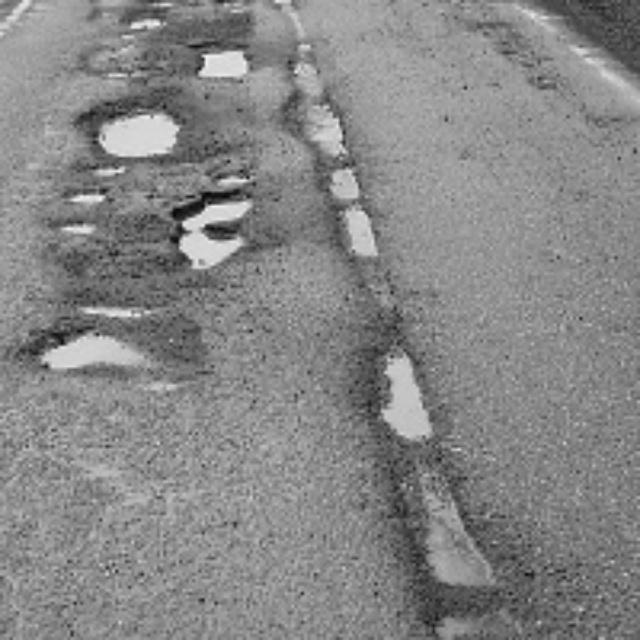Pothole: (283, 39, 393, 263), (374, 346, 479, 549), (30, 319, 148, 380), (94, 104, 184, 165), (177, 203, 250, 264), (181, 24, 240, 78), (114, 44, 160, 84), (120, 0, 162, 25)
Surface Erosion: (460, 0, 593, 120)
